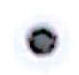cancer: (14, 14, 69, 69)
